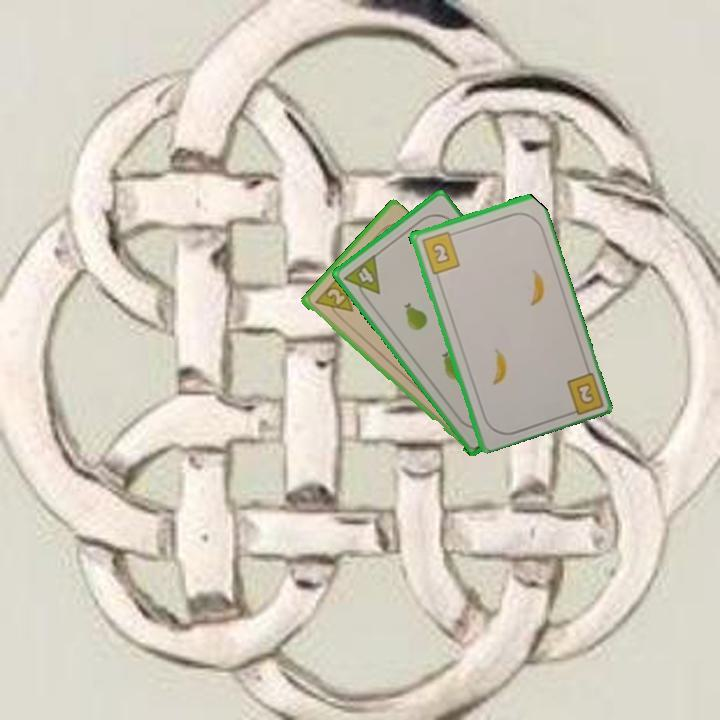2b: (418, 227, 462, 277), (562, 367, 604, 417)
2p: (310, 271, 356, 323)
4p: (340, 251, 383, 305)
